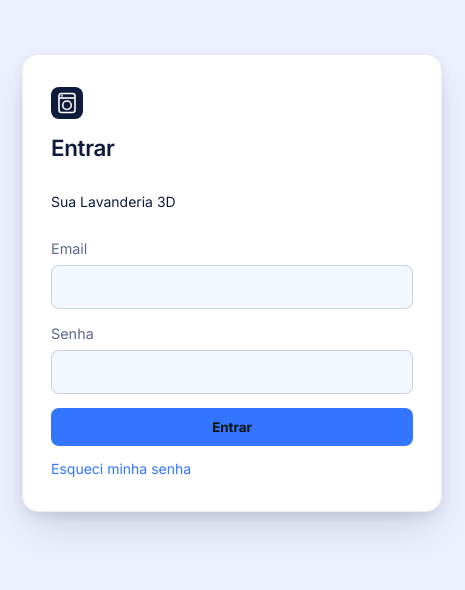
Test case: LoginPage › esqueci minha senha envia o link de redefinição e mostra a mesma mensagem exista ou não a conta
The image size is (465, 590).
Step 1. Type "a@b.com" into the field labelled "Email" → (232, 287), box [51,265,413,309]
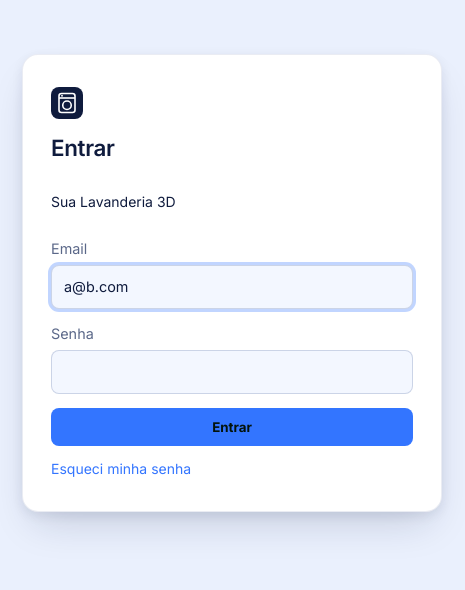
Step 2. Click the button "Esqueci minha senha" → (121, 468), box [51,458,191,479]
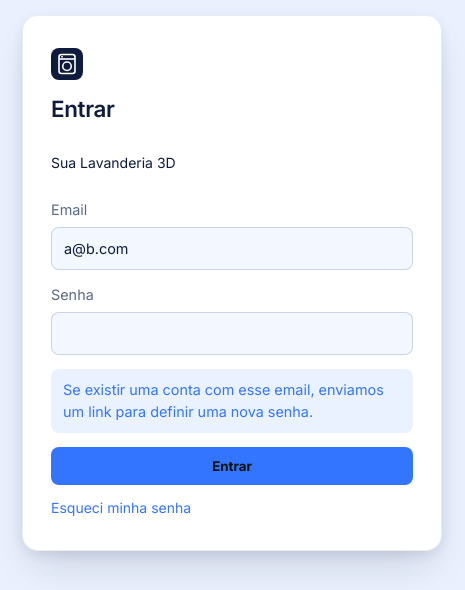
Expected: the text "Se existir uma conta com esse email" is shown, [63,381,384,420]
